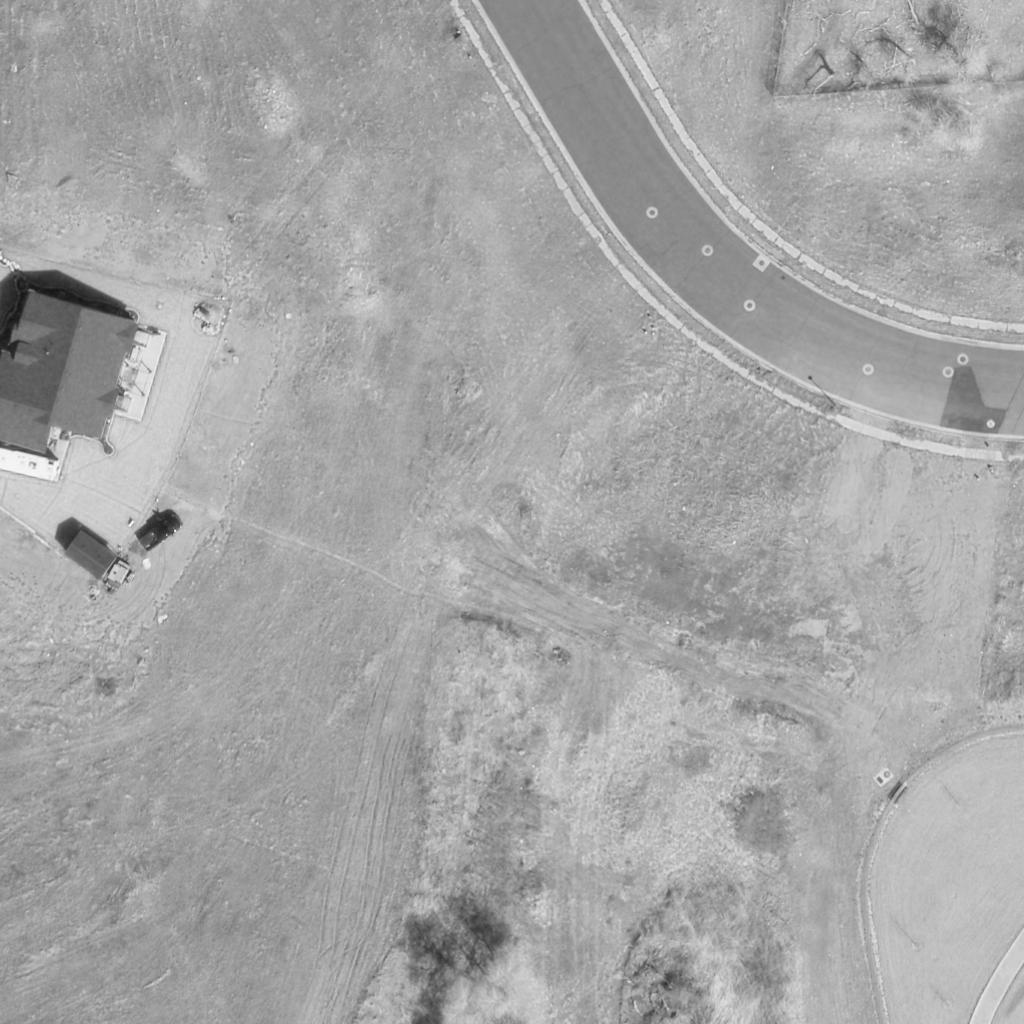vehicle: (139, 514, 185, 554)
